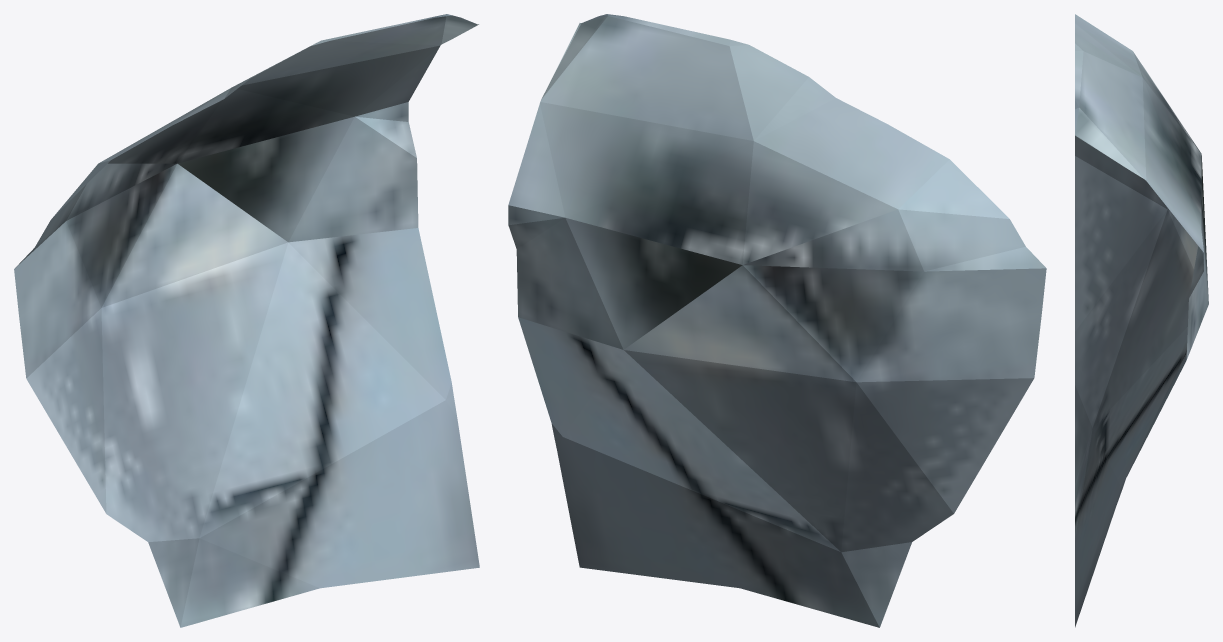
The picture shows the model from 3 angles, left to right: view 1: azimuth 30°, elevation 25°; view 2: azimuth 150°, elevation 25°; view 3: azimuth 270°, elevation 25°; orthographic projection. The views are drawn at different scales.
Size of the model in its own units: 0.3637 by 0.4203 by 0.0999.
Materials: 1 (1 with a texture image).
